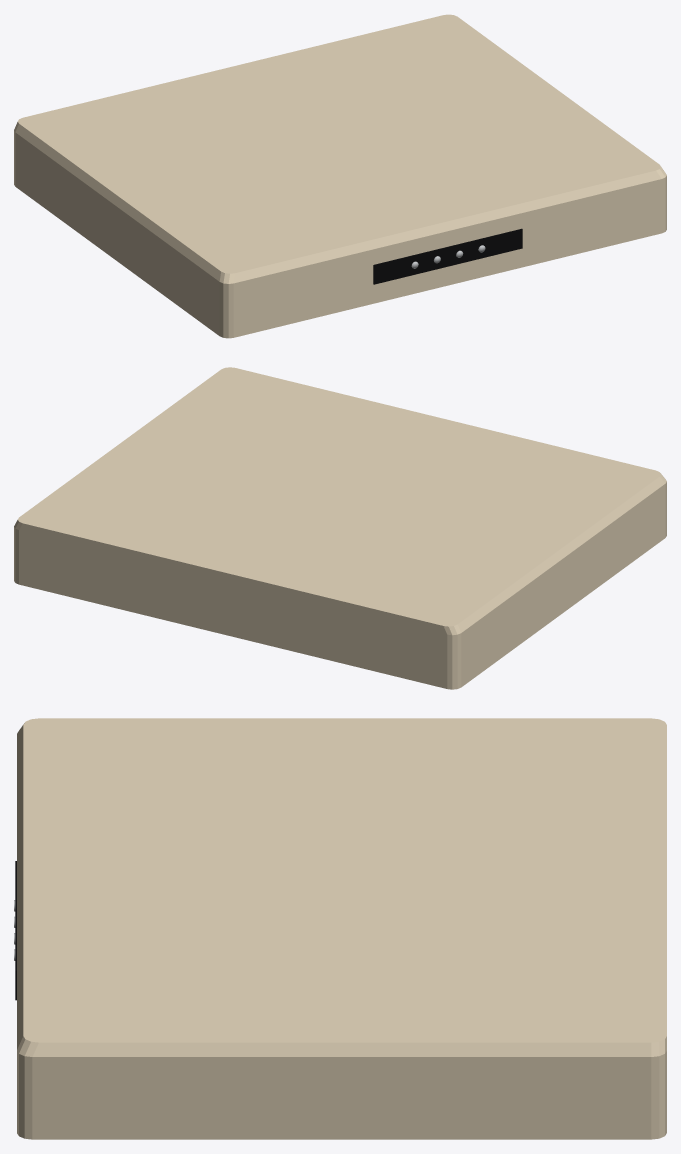
Rendered from a_hood_slim_3.glb.
3 views of the same model, one above another, from view 1: azimuth 30°, elevation 25°; view 2: azimuth 150°, elevation 25°; view 3: azimuth 270°, elevation 25° (orthographic). The views are drawn at different scales.
Parts seen in each view (by area): view 1: o, o.027; view 2: o; view 3: o.
Boxes of the visible parts, x1,y1,x2,y2 form: o: [14, 14, 666, 338]; o.027: [373, 228, 522, 284]; o: [14, 367, 666, 689]; o: [17, 718, 666, 1139].
Bounding box in the file's own units: 0.6 × 0.0822 × 0.5022.
